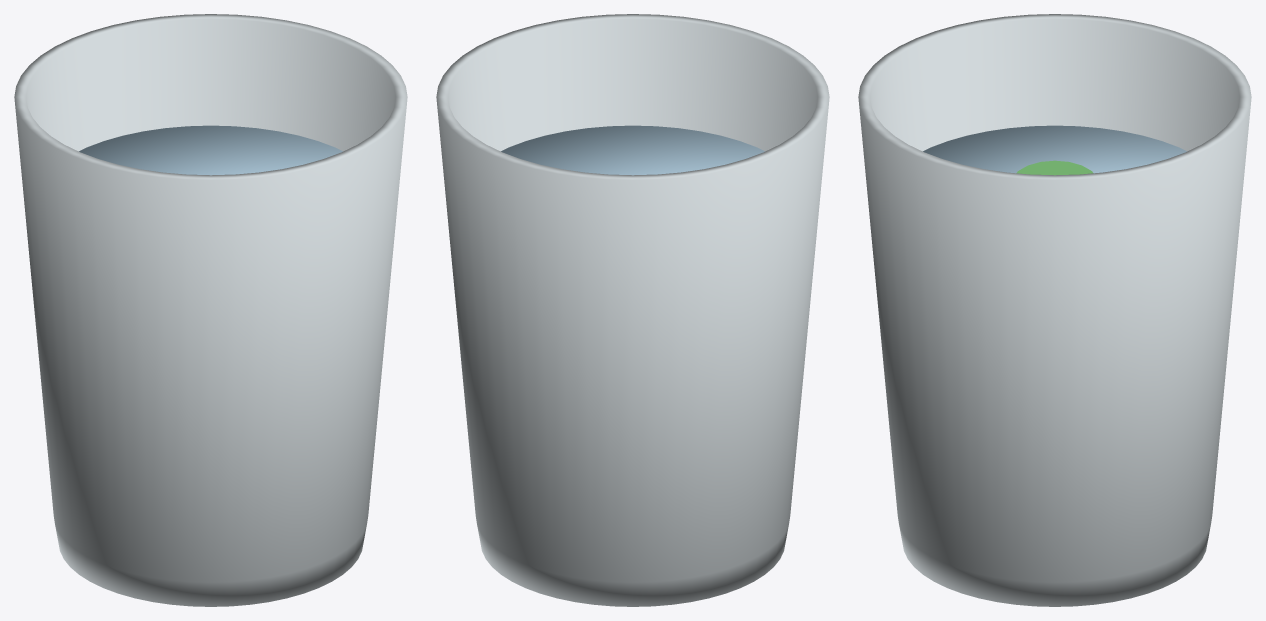
Rendered from glass.glb.
3 renders of one model, left to right at view 1: azimuth 30°, elevation 25°; view 2: azimuth 150°, elevation 25°; view 3: azimuth 270°, elevation 25°, orthographic.
Parts seen in each view (by area): view 1: glass, water; view 2: glass, water; view 3: glass, water, leaf.
Part boxes in pixels (bbox=[...]): glass: bbox=[14, 14, 407, 606]; water: bbox=[79, 125, 342, 175]; glass: bbox=[436, 14, 829, 606]; water: bbox=[501, 125, 764, 175]; glass: bbox=[858, 14, 1251, 606]; water: bbox=[923, 125, 1186, 173]; leaf: bbox=[1016, 160, 1093, 175].
Bounding box in the file's own units: 0.4 × 0.5 × 0.4.
